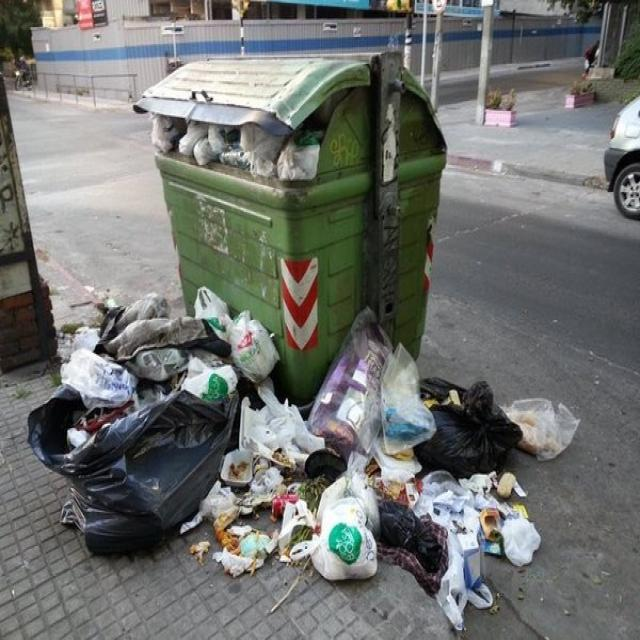garbage: (315, 284, 586, 640), (21, 286, 312, 570), (146, 110, 327, 187)
